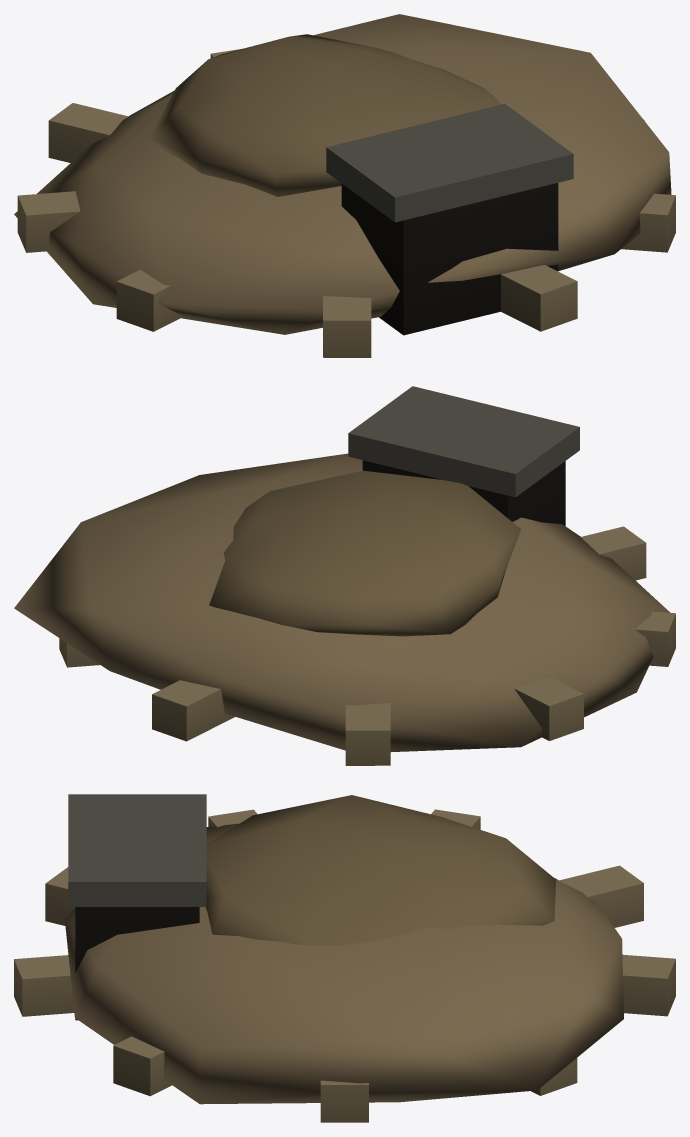
Rendered from m_tunnel_7dde9843.glb.
The picture shows the model from 3 angles, top to bottom: view 1: azimuth 30°, elevation 25°; view 2: azimuth 150°, elevation 25°; view 3: azimuth 270°, elevation 25°; orthographic projection. The views are drawn at different scales.
Parts seen in each view (by area): view 1: mesh; view 2: mesh; view 3: mesh.
Boxes of the visible parts, x1,y1,x2,y2 form: mesh: (14, 14, 675, 357); mesh: (14, 386, 675, 765); mesh: (14, 794, 675, 1122).
Size of the model in its own units: 47.16 by 13.03 by 47.88.
